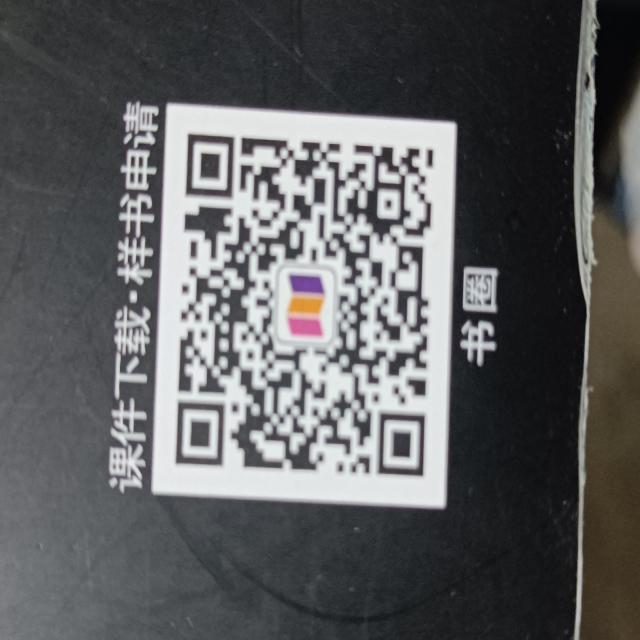qr_code: (176, 132, 434, 478)
